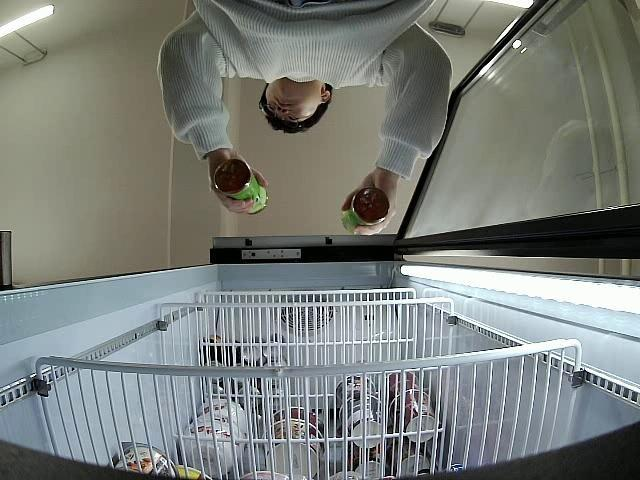19_17cha: (214, 160, 267, 216), (344, 190, 389, 230)
